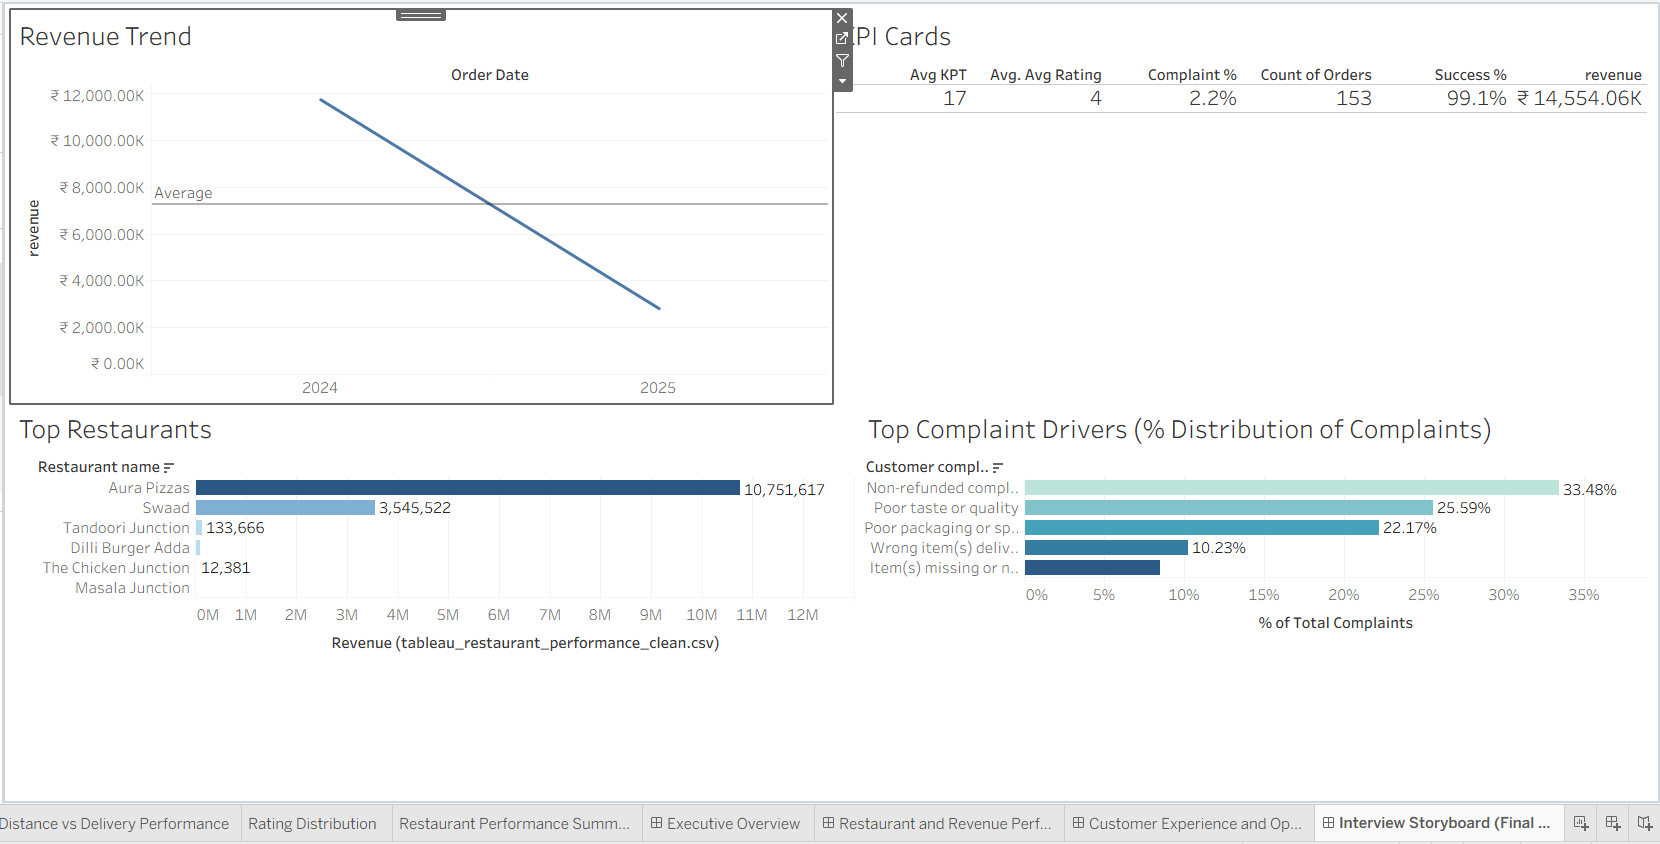

The dashboard page shown, as its layout file describes it:
{"tool":"tableau","page":{"name":"Interview Storyboard (Final Summary)","canvas":[1000,1000],"units":"permille","ordinal":2},"visuals":[{"type":"worksheet","title":"Revenue Trend","mark":"Line","rows":["Calculation_1829305934355476487"],"cols":["Order_Date"],"box":[4.8,10,495.5,490]},{"type":"worksheet","title":"KPI Cards","mark":"Automatic","box":[500.3,10,494.9,490]},{"type":"worksheet","title":"Top Restaurants","mark":"Automatic","rows":["Restaurant name"],"cols":["Revenue (tableau_restaurant_performance_clean.csv)"],"box":[4.8,500,512.4,490]},{"type":"worksheet","title":"Top Complaint Drivers (% Distribution of Complaints)","mark":"Automatic","rows":["Customer complaint tag"],"cols":["Order ID"],"box":[517.2,500,478,490]}]}

Visuals, with their boxes on the dashboard's canvas, which has no fixed pixel size, in thousandths of its width and height (x1, y1, x2, y2). These are canvas units, not pixel positions in the 1660x844 screenshot, which may show the page scaled, cropped or inside an application window:
"Revenue Trend" worksheet (Line marks): x1=5 y1=10 x2=500 y2=500
"KPI Cards" worksheet: x1=500 y1=10 x2=995 y2=500
"Top Restaurants" worksheet: x1=5 y1=500 x2=517 y2=990
"Top Complaint Drivers (% Distribution of Complaints)" worksheet: x1=517 y1=500 x2=995 y2=990
